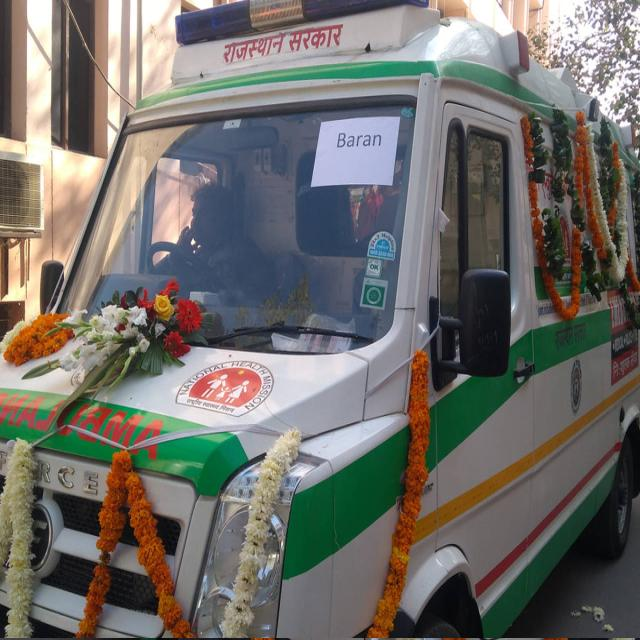emergency: (0, 0, 640, 638)
